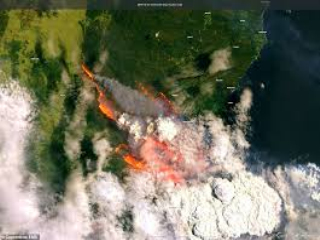smoke: (67, 170, 313, 238), (111, 85, 246, 155)
